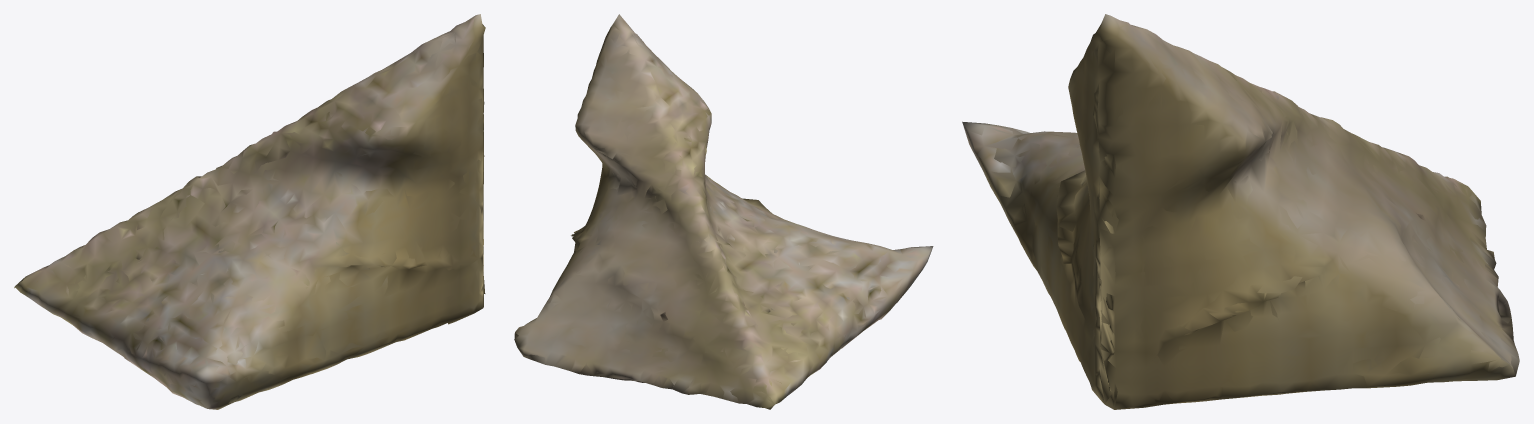
File: great_pyramid.glb
The picture shows the model from 3 angles, left to right: view 1: azimuth 30°, elevation 25°; view 2: azimuth 150°, elevation 25°; view 3: azimuth 270°, elevation 25°; orthographic projection. The views are drawn at different scales.
Parts seen in each view (by area): view 1: great_pyramid; view 2: great_pyramid; view 3: great_pyramid.
Boxes of the visible parts, box(x1,y1,x2,y2) form: great_pyramid: box(14, 14, 485, 409); great_pyramid: box(514, 14, 933, 409); great_pyramid: box(962, 14, 1519, 409).
Size of the model in its own units: 1.79 by 1.5 by 1.92.
